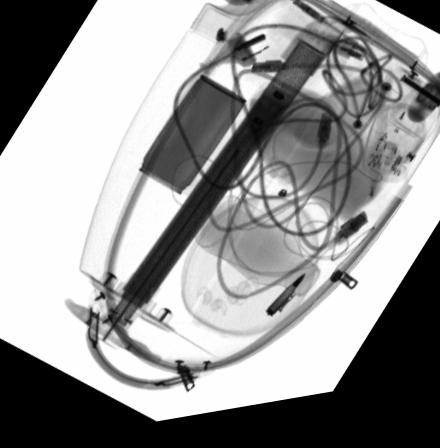Bullet: (263, 282, 306, 326)
